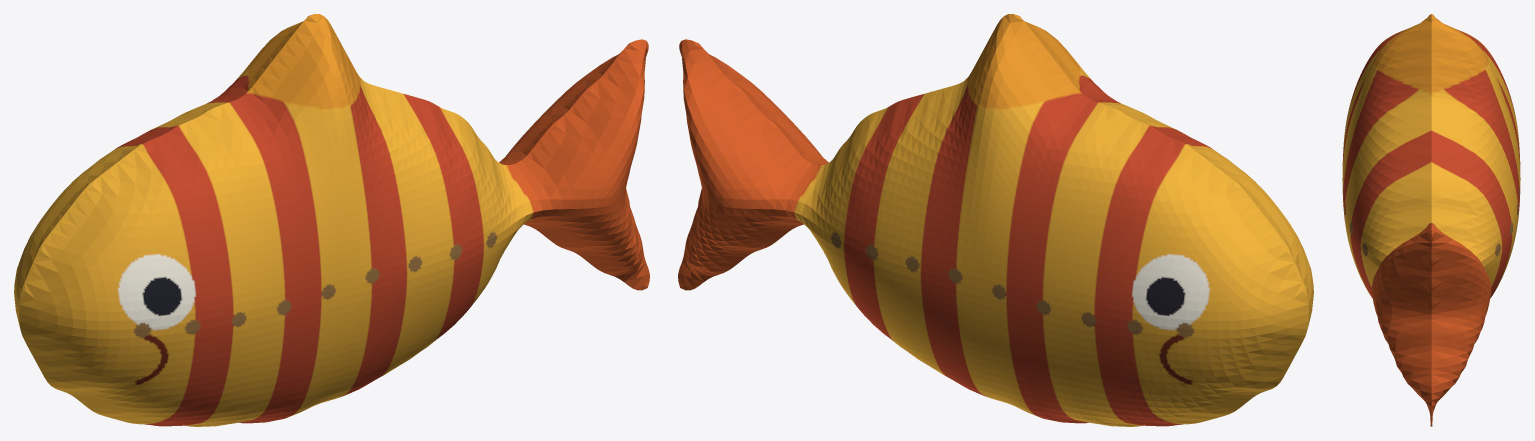
File: toy_fish.glb
The picture shows the model from 3 angles, left to right: view 1: azimuth 30°, elevation 25°; view 2: azimuth 150°, elevation 25°; view 3: azimuth 270°, elevation 25°; orthographic projection. The views are drawn at different scales.
Visible parts, largest first — view 1: world; view 2: world; view 3: world.
Part boxes in pixels (x1=…): world: x1=14, y1=14, x2=649, y2=426; world: x1=678, y1=14, x2=1313, y2=426; world: x1=1342, y1=14, x2=1520, y2=426.
Size of the model in its own units: 0.335 by 0.2 by 0.1028.
1 material, 1 textured.
